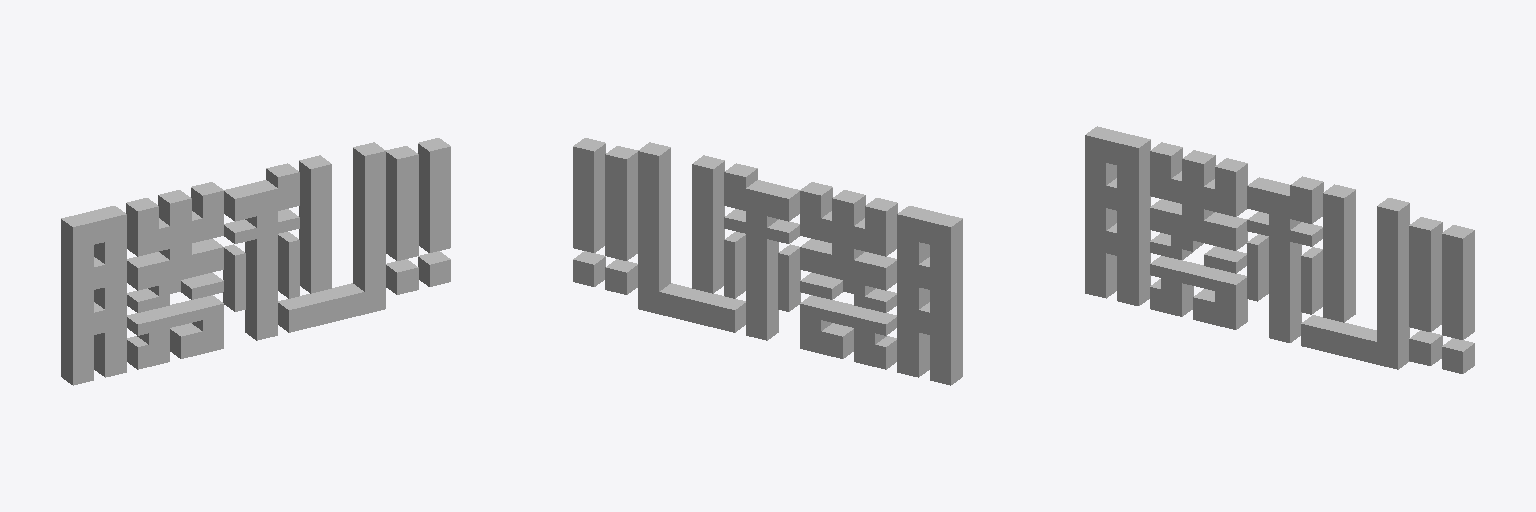
File: win.obj
3 views of the same model, side by side, from view 1: azimuth 30°, elevation 25°; view 2: azimuth 150°, elevation 25°; view 3: azimuth 330°, elevation 25° (orthographic).
Parts seen in each view (by area): view 1: 勝利!!; view 2: 勝利!!; view 3: 勝利!!.
Boxes of the visible parts, <box> form: 勝利!!: <box>61,138,450,385</box>; 勝利!!: <box>573,138,962,385</box>; 勝利!!: <box>1085,126,1474,373</box>.
Bounding box in the file's own units: 1.09 × 0.4375 × 0.06.